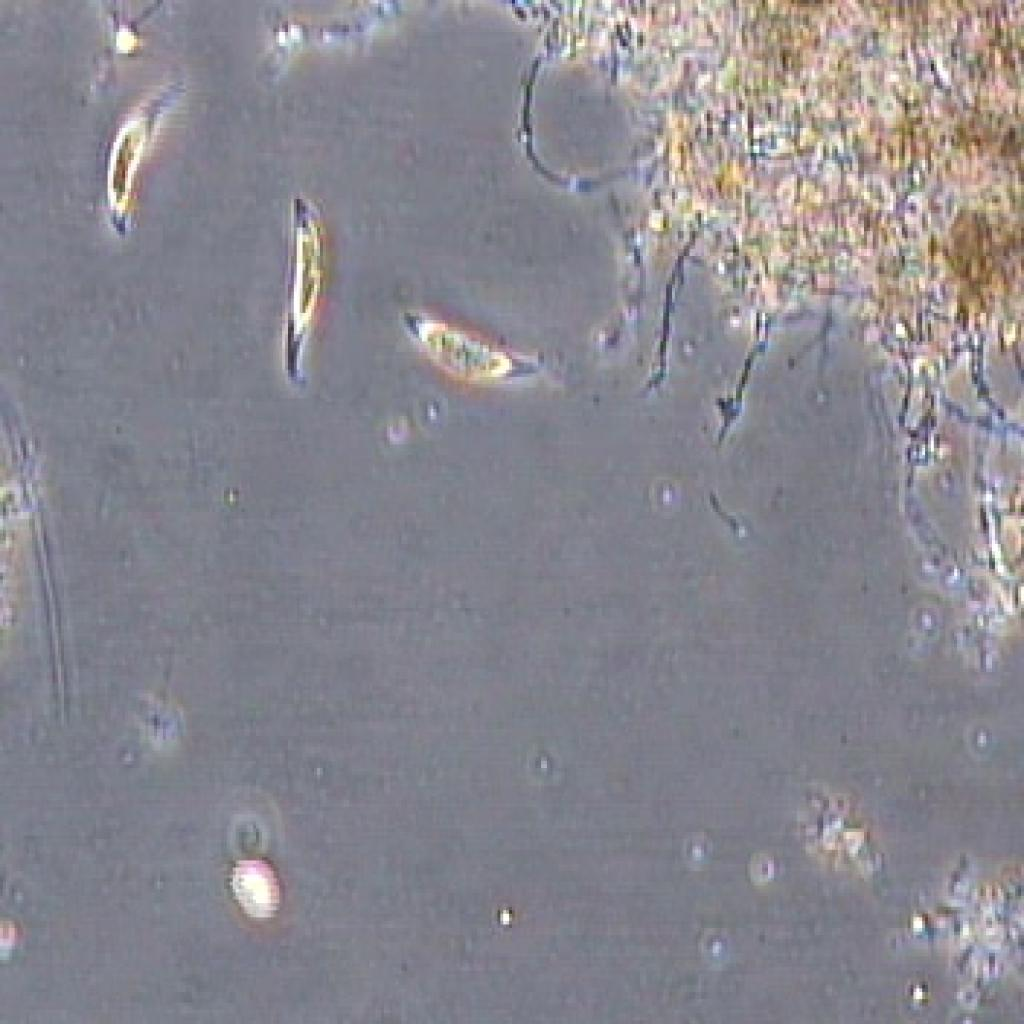Pristina: (394, 265, 557, 411), (90, 62, 201, 251), (266, 178, 348, 398)
